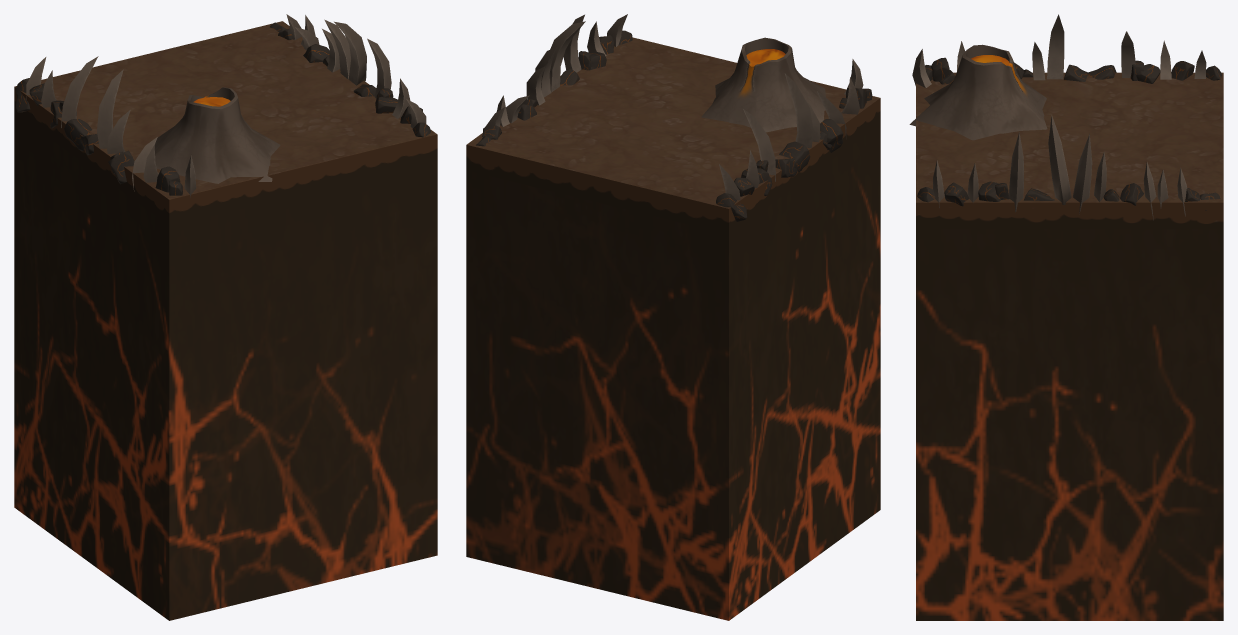
File: Plataforma Volcan Der-Med.fbx
3 renders of one model, left to right at view 1: azimuth 30°, elevation 25°; view 2: azimuth 150°, elevation 25°; view 3: azimuth 270°, elevation 25°, orthographic. The views are drawn at different scales.
Visible parts, largest first — view 1: Plataforma 1.006, Cone.016, Cone.014, Cone.004, Cone.001, Cone.008, Cone.011; view 2: Plataforma 1.006, Cone.016, Cone.004, Cone.014, Cone.001; view 3: Plataforma 1.006, Cone.016, Cone.014, Cone.004, Cone.011, Cone.008, Cone.001.
Boxes of the visible parts, x1=… form: Plataforma 1.006: x1=14, y1=21, x2=437, y2=620; Cone.016: x1=154, y1=87, x2=280, y2=183; Cone.014: x1=334, y1=21, x2=366, y2=85; Cone.004: x1=97, y1=69, x2=123, y2=148; Cone.001: x1=61, y1=56, x2=98, y2=127; Cone.008: x1=367, y1=38, x2=391, y2=98; Cone.011: x1=324, y1=19, x2=350, y2=79; Plataforma 1.006: x1=466, y1=37, x2=880, y2=620; Cone.016: x1=701, y1=37, x2=825, y2=132; Cone.004: x1=784, y1=73, x2=813, y2=147; Cone.014: x1=549, y1=21, x2=585, y2=92; Cone.001: x1=743, y1=109, x2=775, y2=181; Plataforma 1.006: x1=916, y1=72, x2=1223, y2=620; Cone.016: x1=909, y1=44, x2=1047, y2=140; Cone.014: x1=1048, y1=115, x2=1071, y2=204; Cone.004: x1=1047, y1=14, x2=1064, y2=79; Cone.011: x1=1073, y1=134, x2=1092, y2=214; Cone.008: x1=1008, y1=132, x2=1023, y2=212; Cone.001: x1=1121, y1=31, x2=1135, y2=77.
Bounding box in the file's own units: 1058 × 1756 × 1021.
